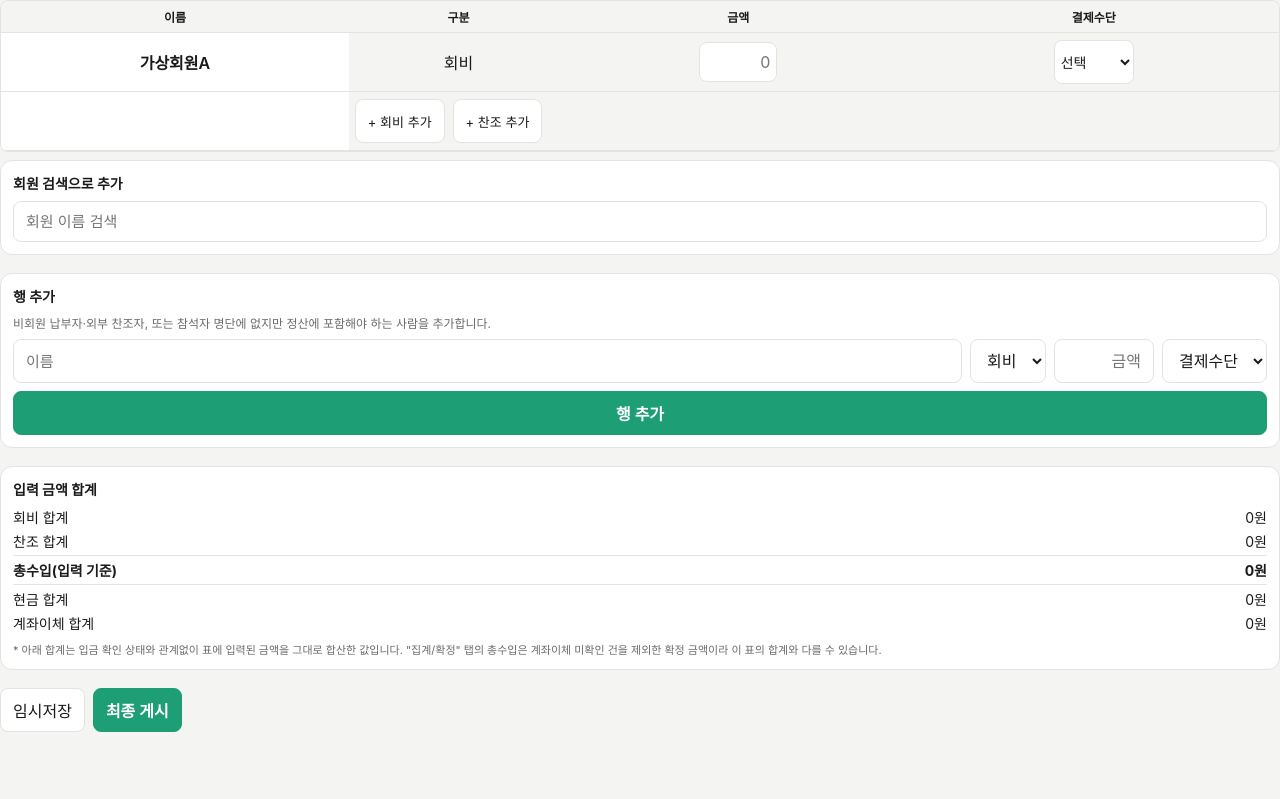
Test case: 13. 회비·찬조 둘 다 계좌이체 → 상태 select 두 개 모두 표시 › 회비 확인상태와 찬조 확인상태가 각각 독립적으로 존재한다
Type "30000" into the field named "가상회원A 회비 금액".
click(738, 62); type("30000")  # box [699,42,777,82]
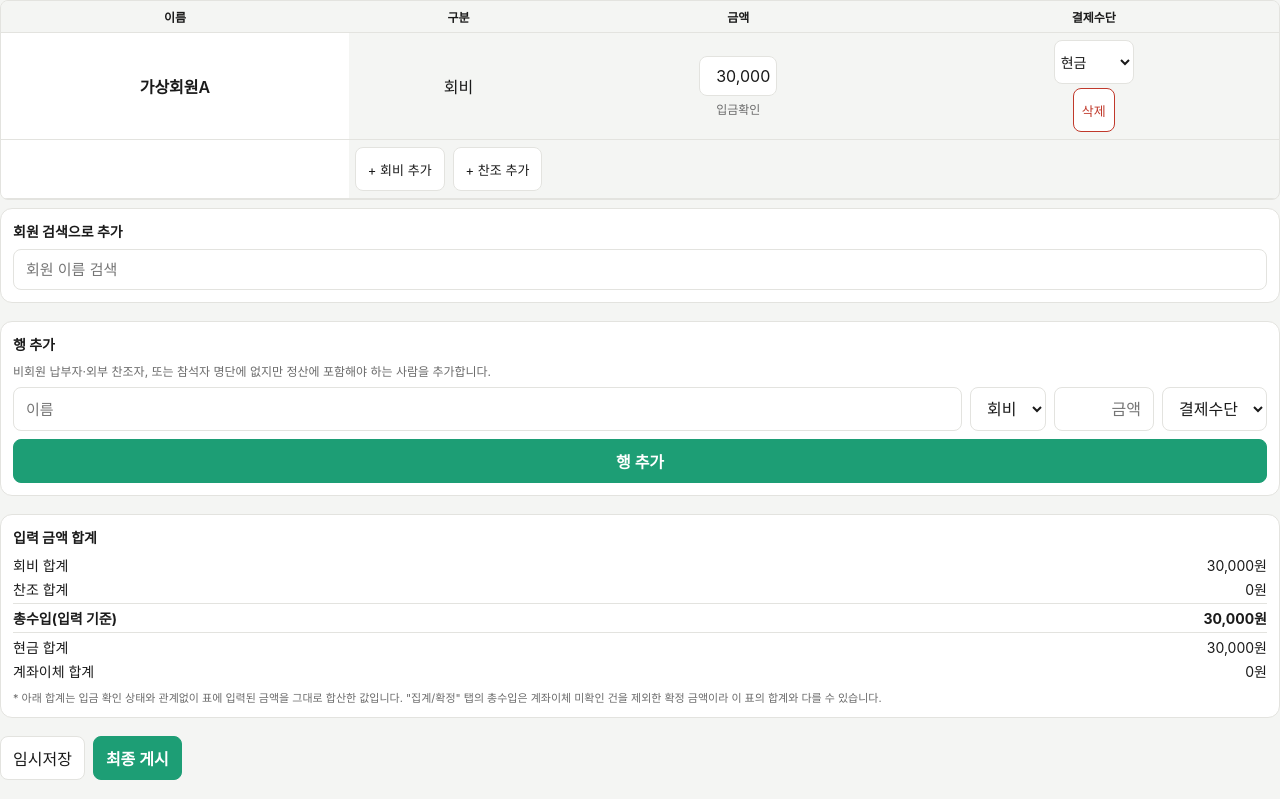
Select "계좌이체" in the dropdown named "가상회원A 회비 결제수단" at coordinates (1094, 62), box [1054,40,1134,84]
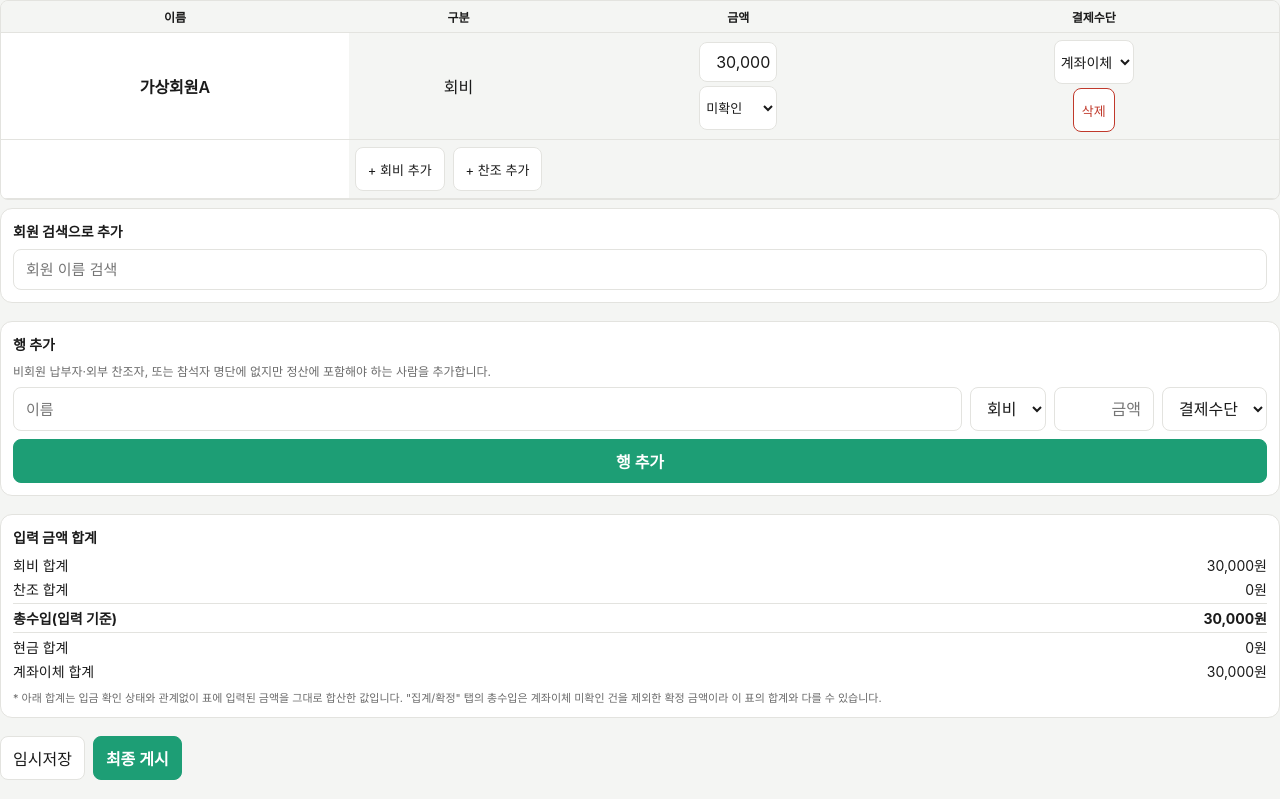
Click the button "+ 찬조 추가".
click(498, 169)  # box [453,147,542,191]
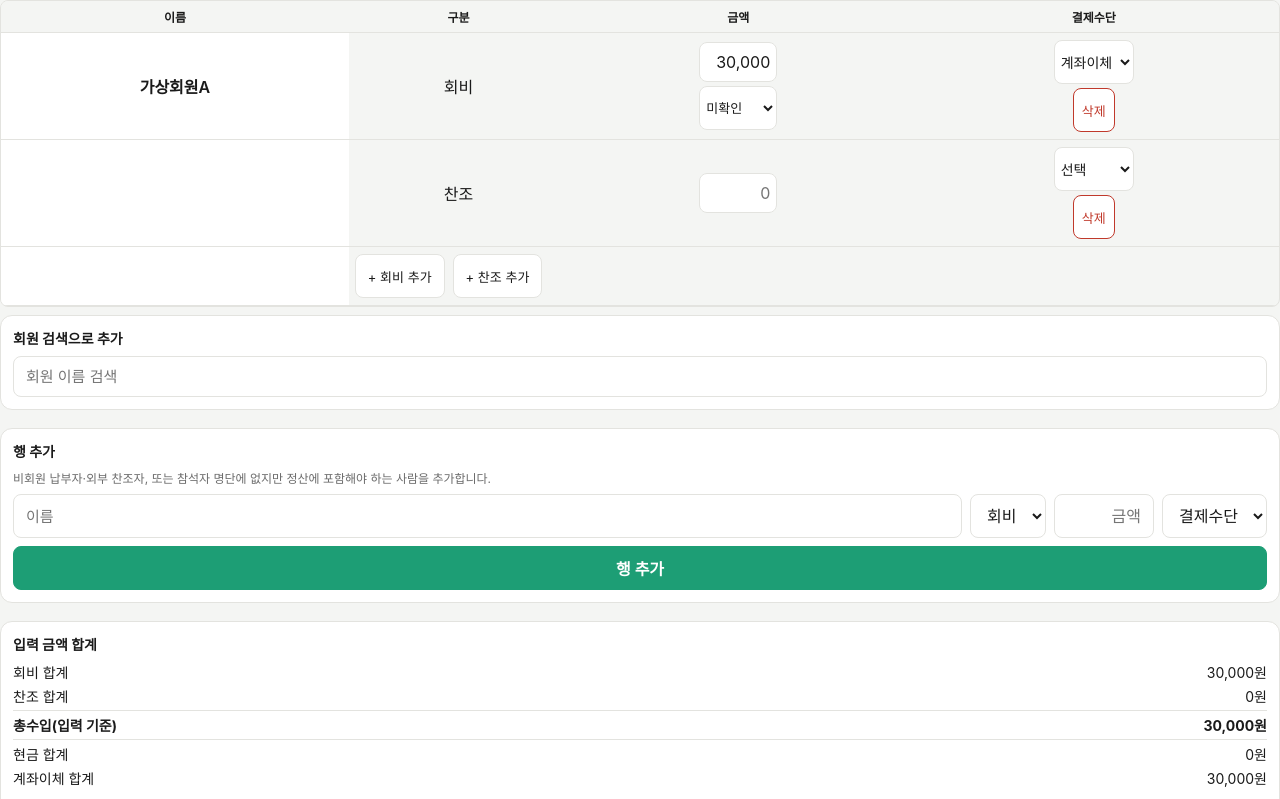
Type "20000" into the field named "가상회원A 찬조 금액".
click(738, 193); type("20000")  # box [699,173,777,213]
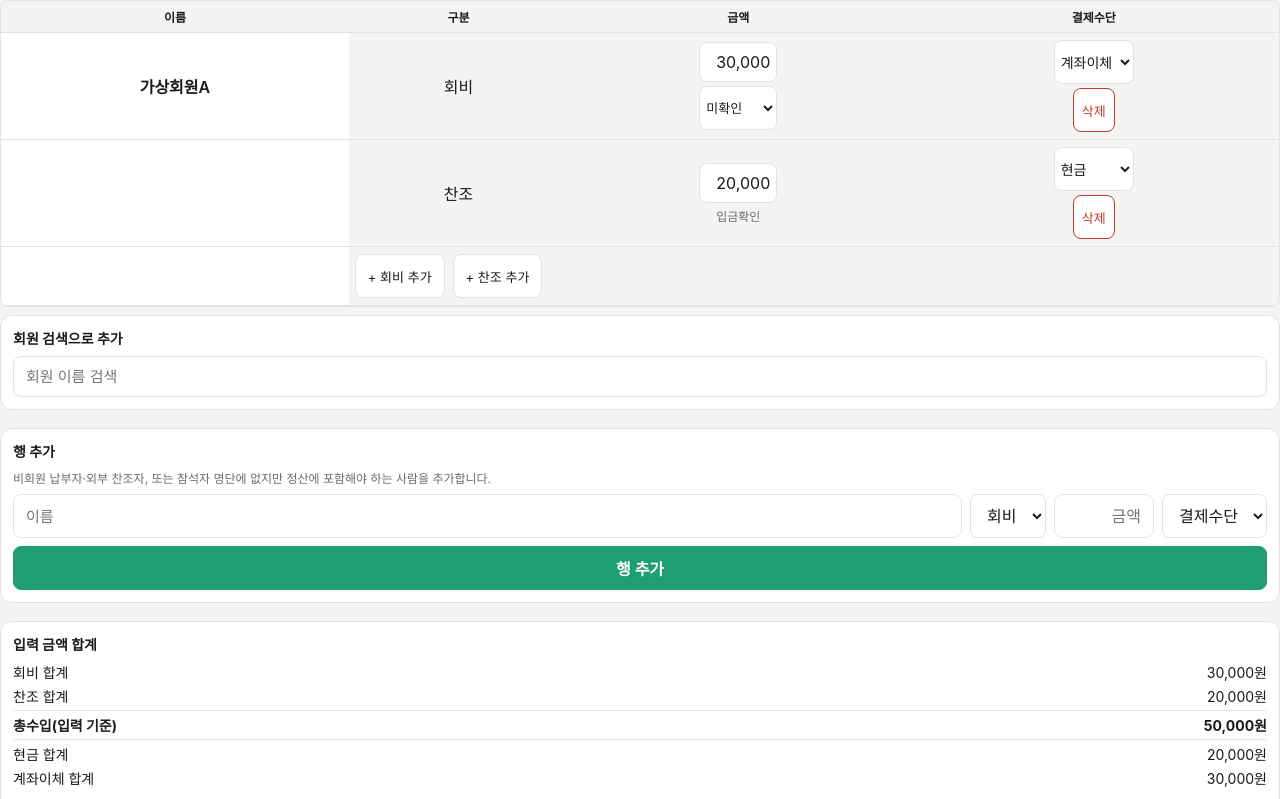
Select "계좌이체" in the dropdown named "가상회원A 찬조 결제수단" at coordinates (1094, 169), box [1054,147,1134,191]
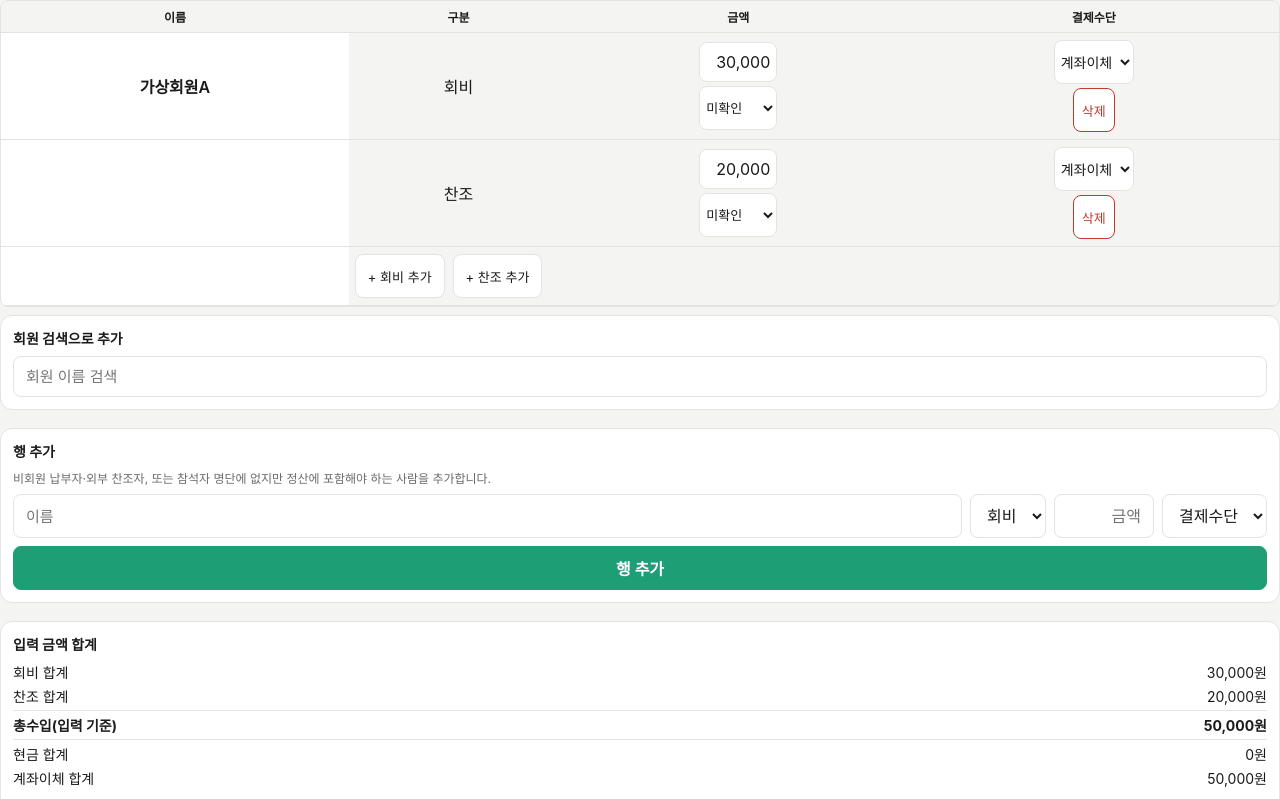
Expected: the dropdown named "가상회원A 회비 확인상태" shows "미확인", [699,86,777,130]
Expected: the dropdown named "가상회원A 찬조 확인상태" shows "미확인", [699,193,777,237]
